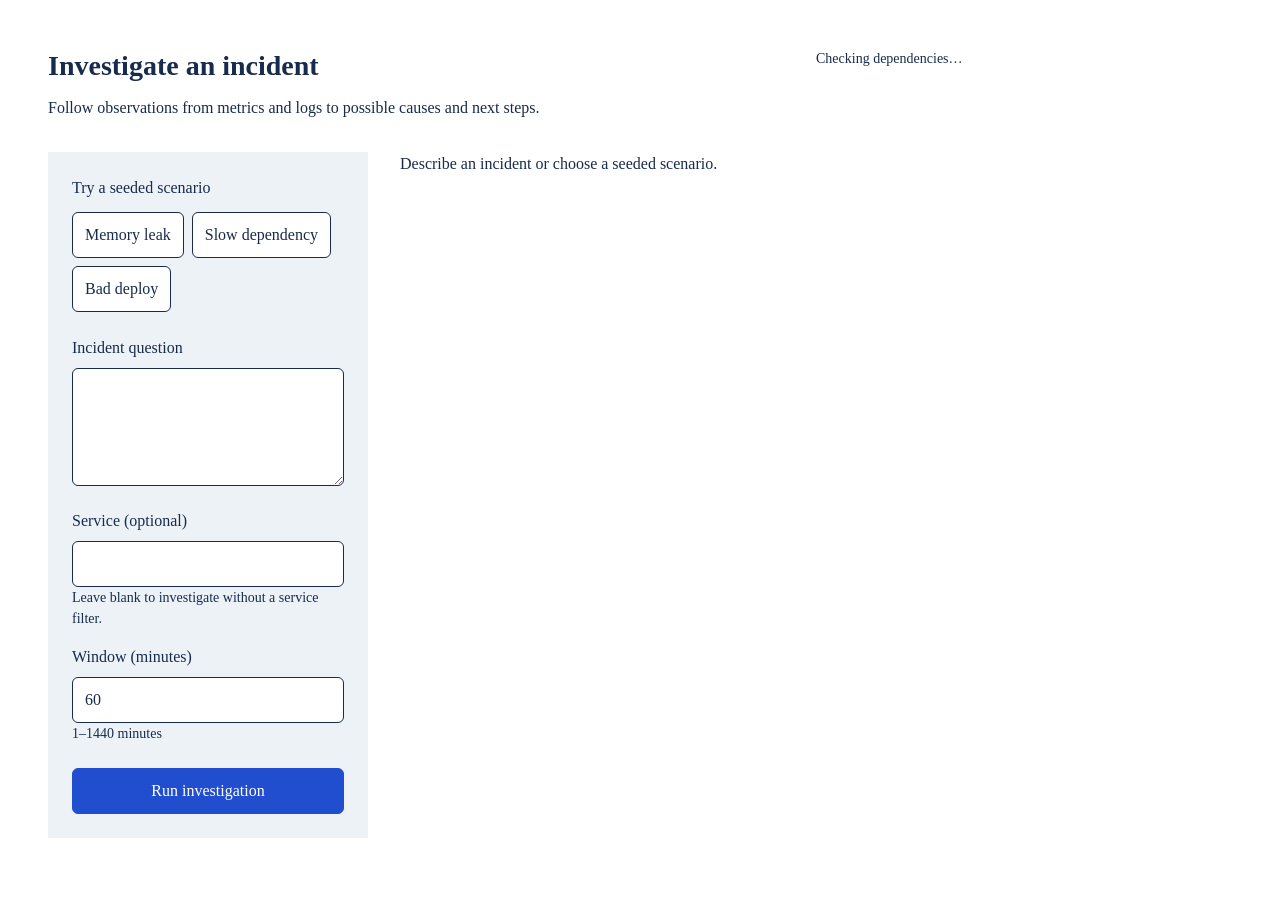
Test: an empty valid report explains absent candidates and next steps
What coordinates should you click on to do the following:
click the button "Slow dependency"
I would click on:
 (261, 235)
Its box is [192,212,331,258].
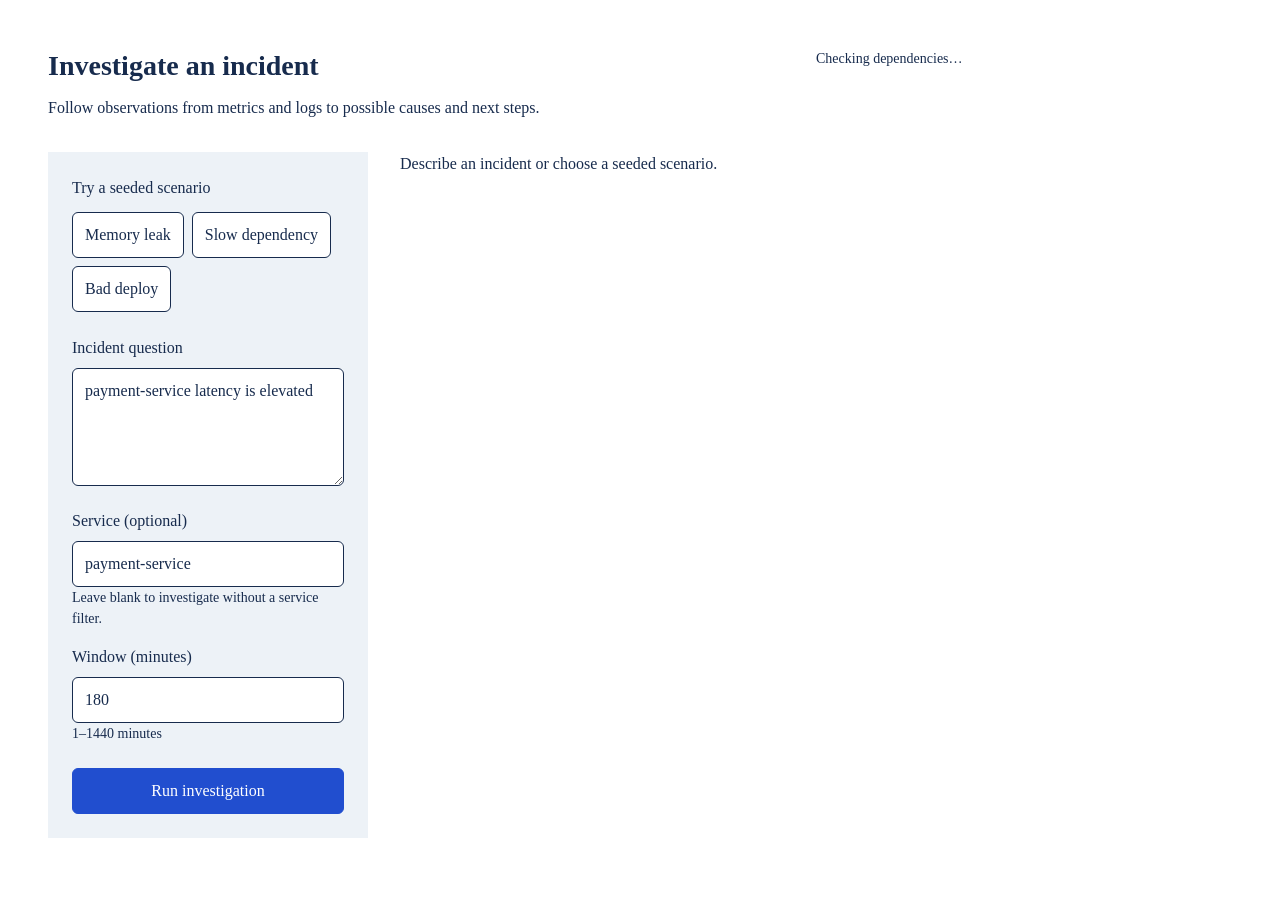
What coordinates should you click on to do the following:
click the button "Run investigation"
I would click on:
 (208, 791)
Its box is [72,768,344,814].
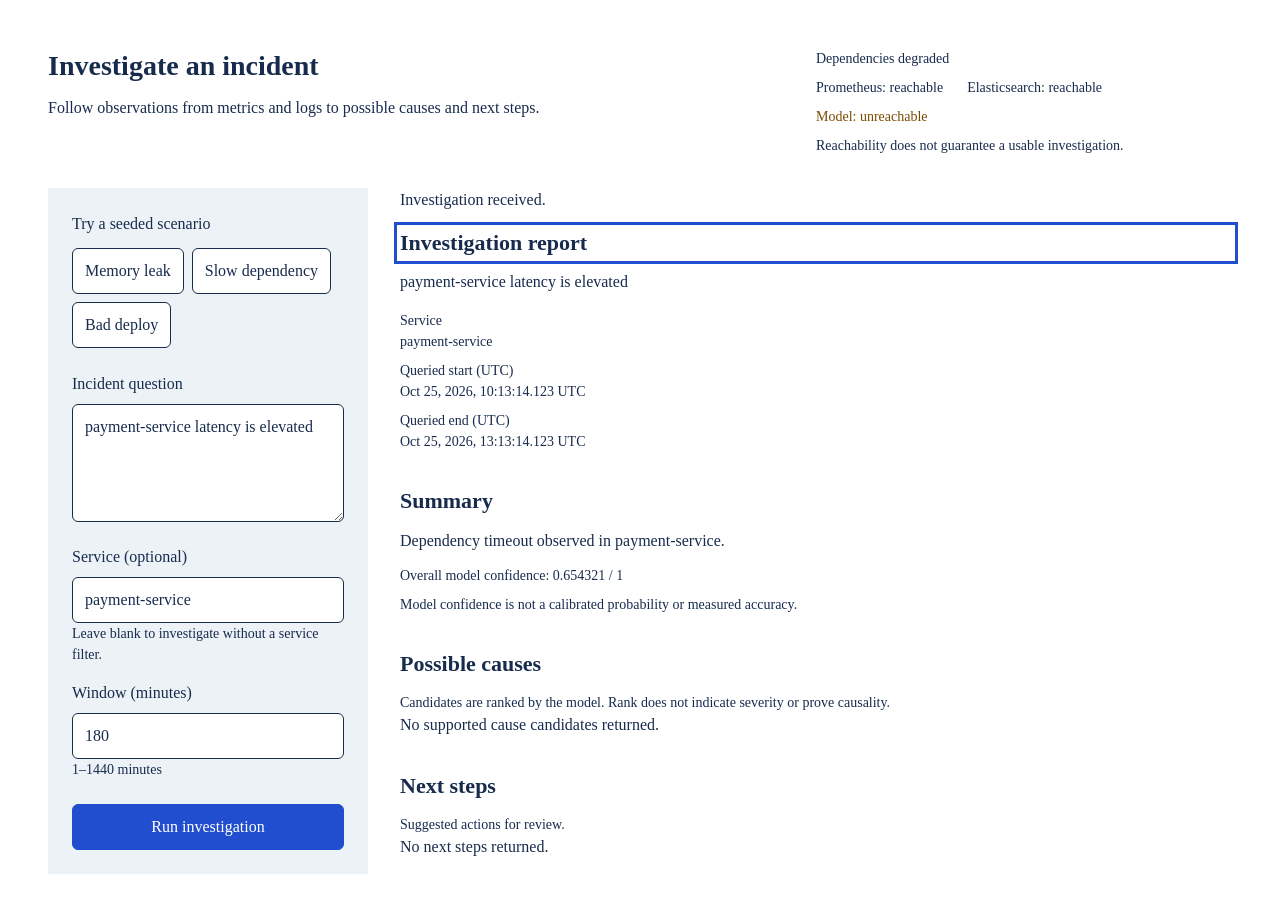
Now the text "No supported cause candidates returned." is shown, box [400,716,659,733]
Now the text "No next steps returned." is shown, box [400,838,548,855]
